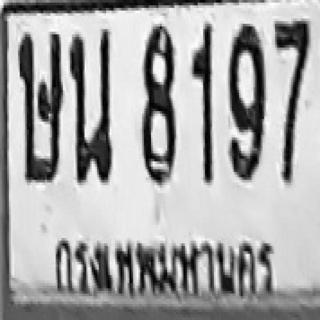A25: (69, 28, 112, 184), (69, 70, 112, 184), (68, 28, 112, 126)
A39: (17, 30, 64, 184)
N01: (190, 27, 213, 172), (190, 22, 213, 160)
N07: (274, 18, 310, 177), (274, 18, 310, 146)
N08: (139, 23, 175, 184)
N09: (227, 22, 265, 181)
P04: (47, 228, 279, 307)
